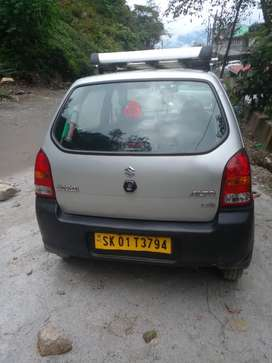SK01T3794: (94, 233, 171, 254)
